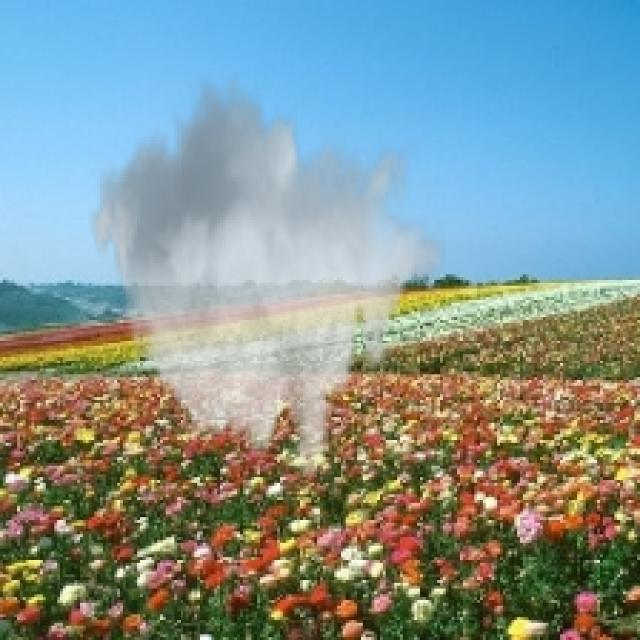Smoke: (88, 71, 446, 486)
